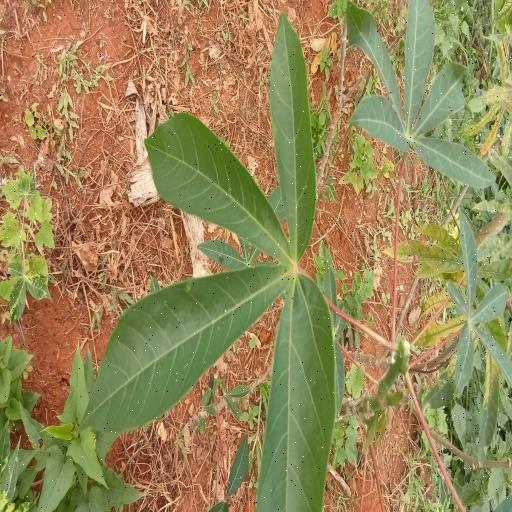Cassava_Healthy: (84, 14, 338, 512), (349, 1, 497, 193), (448, 216, 512, 397)
